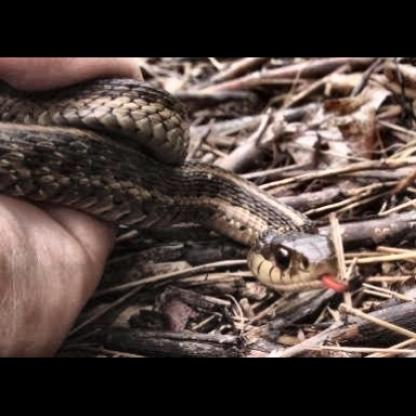Snake: (0, 77, 349, 291)
